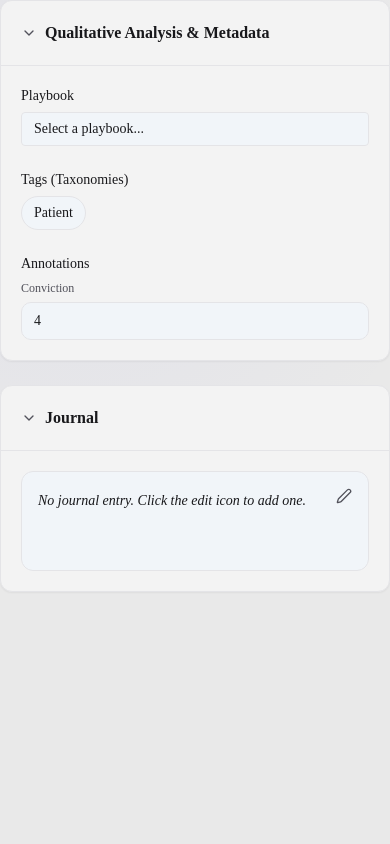
Test: QualitativeMetadataPanel › reports dirty journal changes and offers scoped desktop and mobile controls
The width and height of the screenshot is (390, 844).
Click the button named "Edit journal".
click(344, 496)  # box [332,484,356,508]
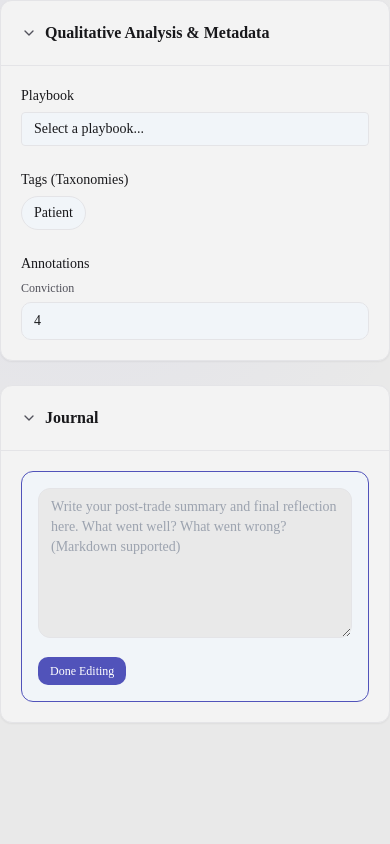
Type "Waited for confirmation." into the text box.
click(195, 563); type("Waited for confirmation.")  # box [38,488,352,638]
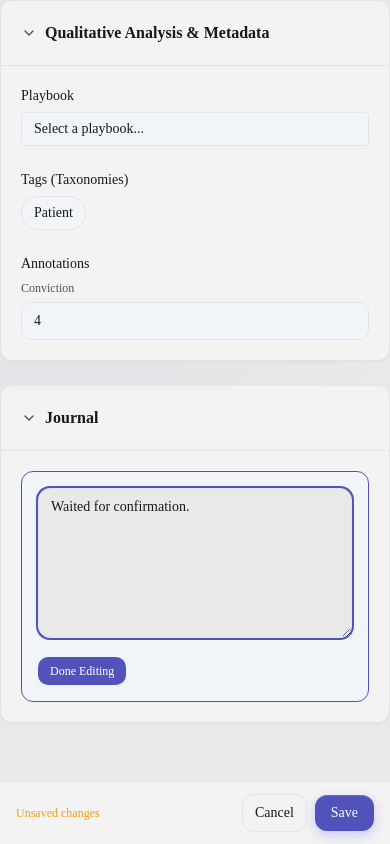
Result: the button "Save" is enabled at [315,795,374,831]
Click the button "Cancel".
click(274, 813)  # box [242,794,307,832]
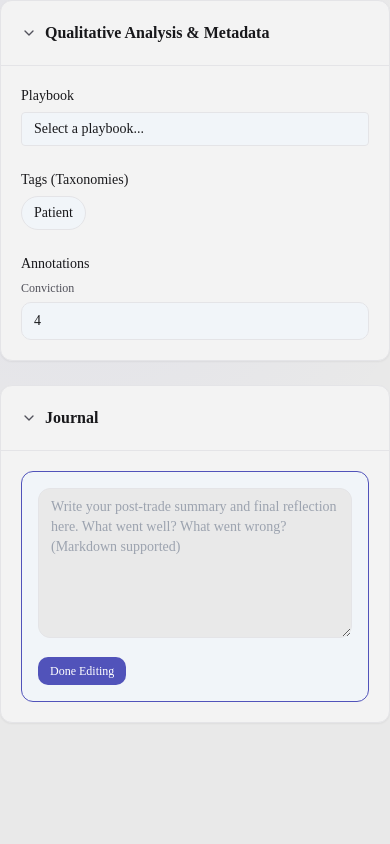
Expected: the dropdown shows "Select a playbook...", [21,112,369,146]
Result: the text "Unsaved changes" is gone
Result: the text box is empty at [38,488,352,638]
